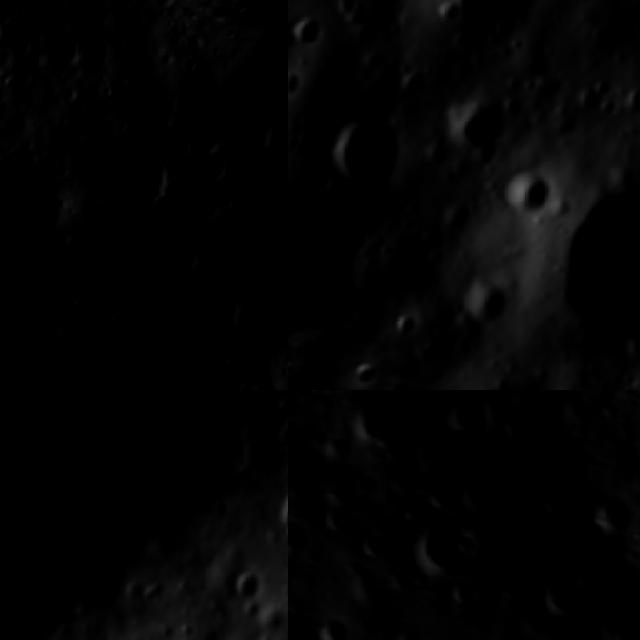crater: (54, 135, 245, 322), (509, 135, 640, 390), (310, 88, 430, 206), (424, 0, 559, 65), (439, 90, 511, 164), (494, 152, 564, 222), (411, 510, 474, 570), (188, 276, 249, 337), (31, 333, 94, 390), (347, 390, 403, 448), (288, 0, 337, 63), (463, 279, 517, 333), (378, 296, 432, 350), (186, 144, 240, 196), (148, 122, 200, 174), (540, 566, 588, 614), (446, 390, 489, 431), (229, 568, 272, 606), (481, 390, 522, 429), (601, 482, 632, 532), (348, 564, 386, 600), (453, 428, 488, 464), (611, 599, 640, 640), (318, 500, 352, 532), (356, 524, 386, 557), (288, 63, 311, 106), (314, 610, 346, 640), (274, 491, 288, 545), (388, 621, 425, 640), (288, 515, 305, 556), (455, 528, 478, 556)
